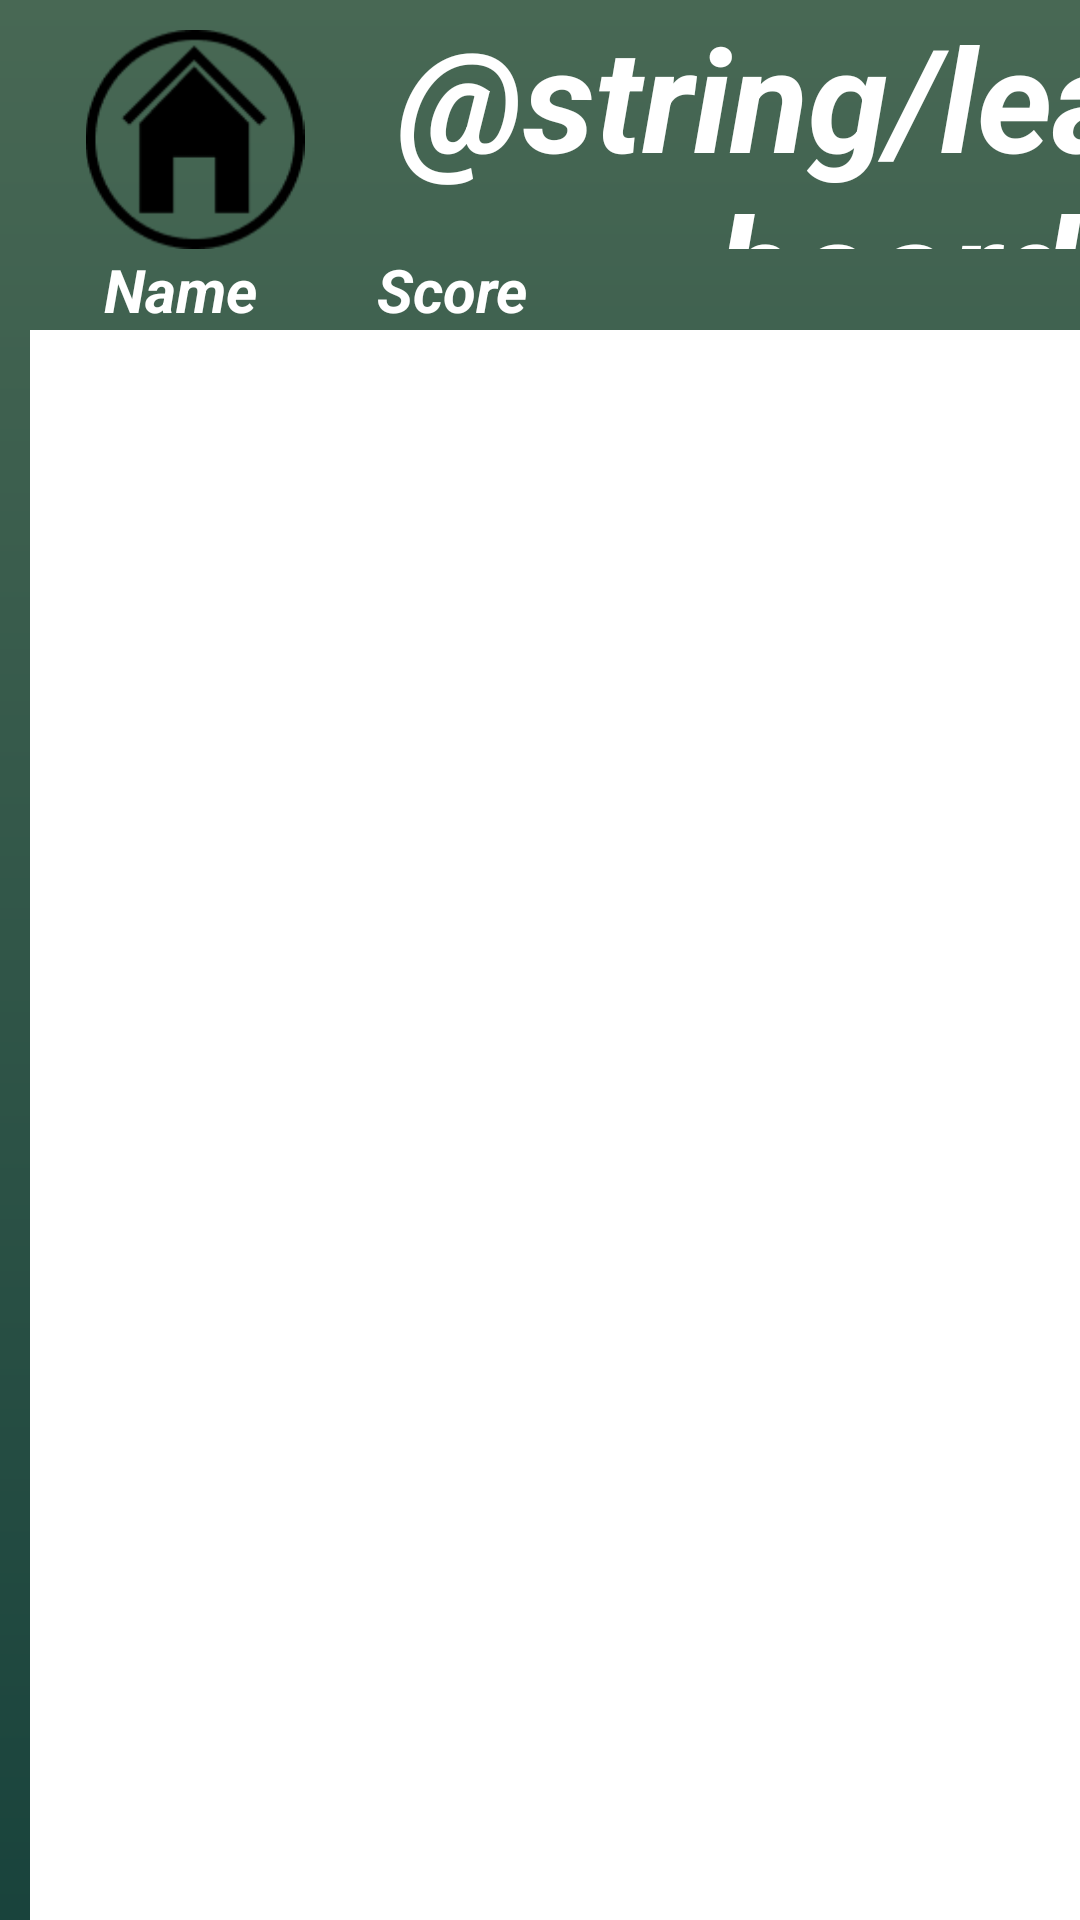

Where to tap for icons on this 1080 x 1920 app screen, as (x,y):
home: (195,139)
